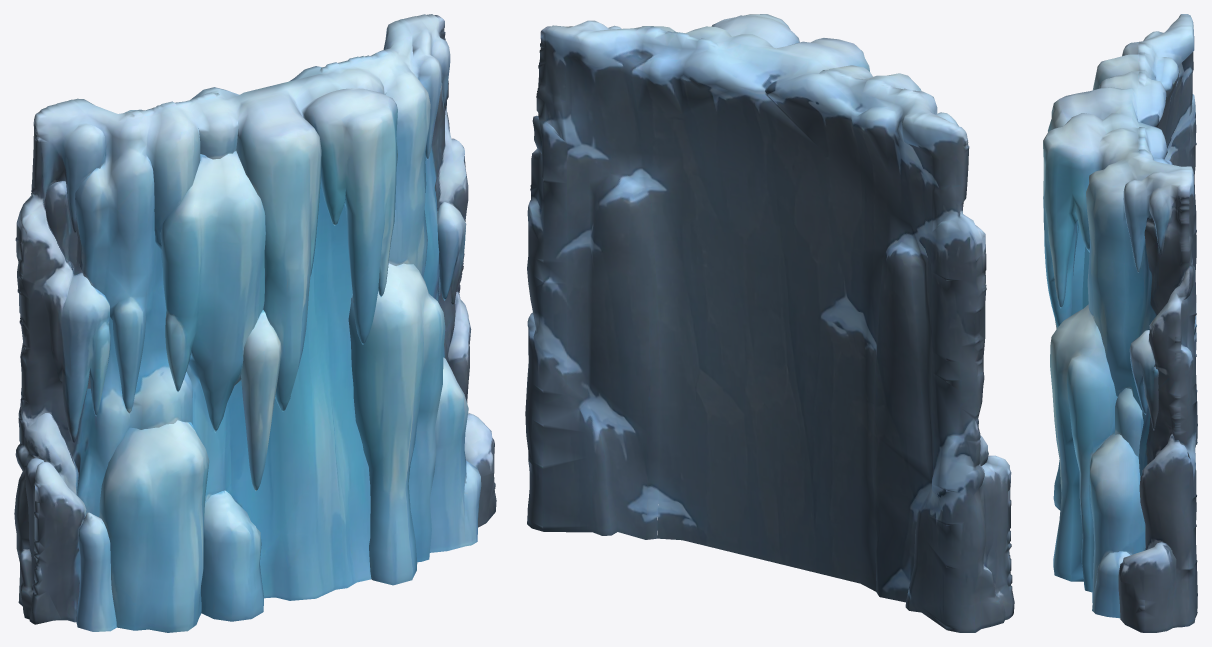
The model's file is SM_Tripo_FrostIcefallMid.glb.
3 views of the same model, side by side, from view 1: azimuth 30°, elevation 25°; view 2: azimuth 150°, elevation 25°; view 3: azimuth 270°, elevation 25° (orthographic). The views are drawn at different scales.
Parts seen in each view (by area): view 1: SM_Tripo_FrostIcefallMid_LOD0; view 2: SM_Tripo_FrostIcefallMid_LOD0; view 3: SM_Tripo_FrostIcefallMid_LOD0.
Part boxes in pixels (box(x1,y1,x2,y2)): SM_Tripo_FrostIcefallMid_LOD0: box(14, 14, 496, 632); SM_Tripo_FrostIcefallMid_LOD0: box(525, 14, 1014, 632); SM_Tripo_FrostIcefallMid_LOD0: box(1043, 14, 1197, 632).
Size of the model in its own units: 15.87 by 16 by 5.17.
Materials: 1 (1 with a texture image).
